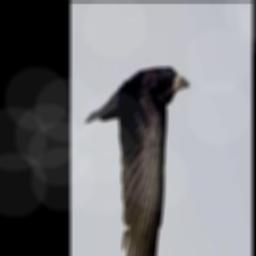Crow: (86, 66, 190, 256)
